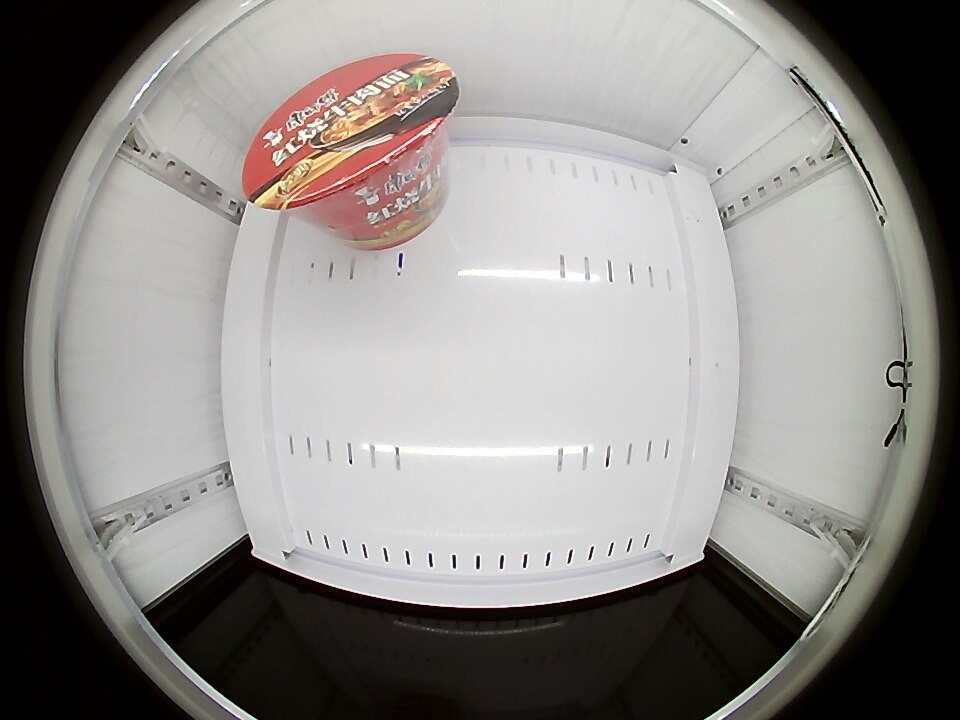hongshaoniurou: (242, 53, 459, 214)
